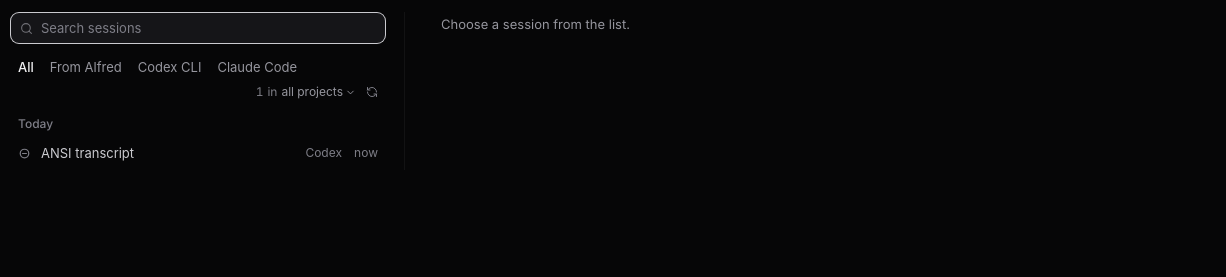
Test case: SessionsSurface › strips ANSI escape sequences from managed transcript buffers
The image size is (1226, 277).
Step 1. Click the option "ANSI transcript Codex now" → x=88, y=153, box 8,136 -> 388,170
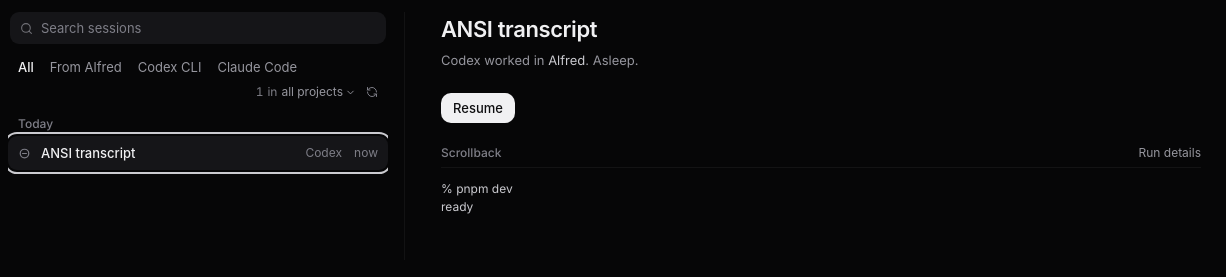
Expected: the element "ANSI transcript" does not show "[1m", 405,12 -> 1209,260
Now the element "ANSI transcript" shows "% pnpm dev", box 441,181 -> 513,196
Now the element "ANSI transcript" shows "ready", box 441,199 -> 473,214
